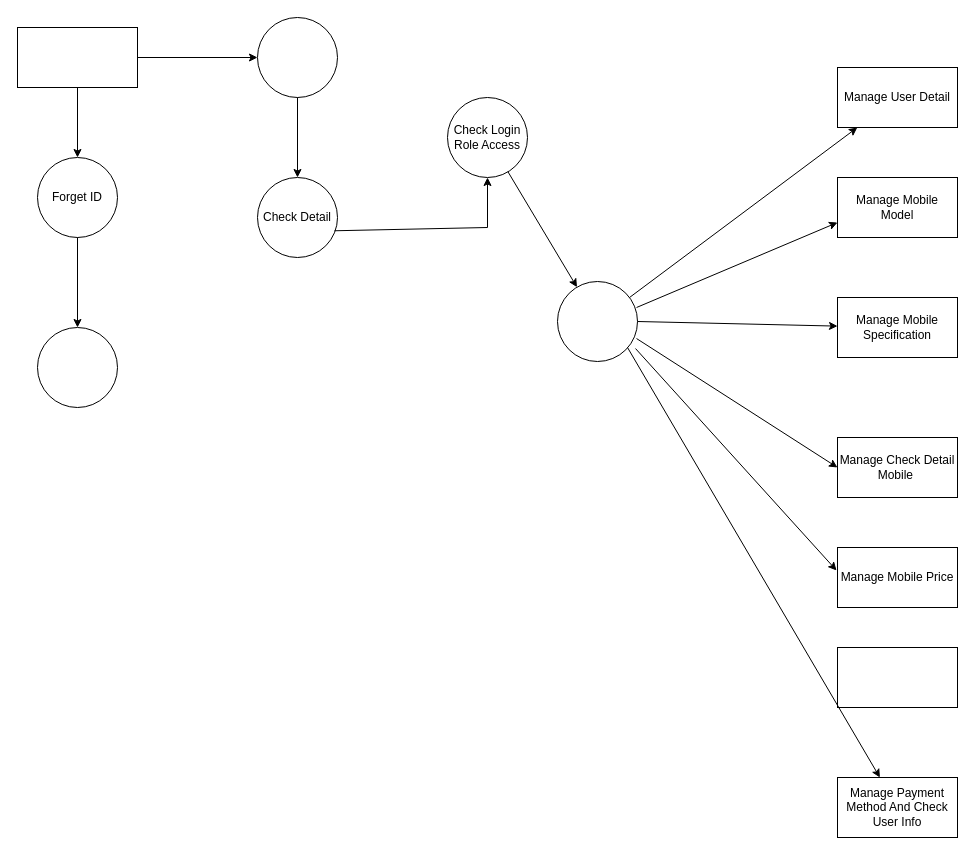
Some shapes in this 975 by 855 pixel diagram are drawn without their labels. The shapes that lost their labels are listed below. From the top down, each one's centre as x and y in pixels, then its label:
the point at 77,57: Admin
the point at 297,57: Login System
the point at 597,321: Manage modules
the point at 77,367: Send Email To User
the point at 897,677: Manage Mobile Quantity
